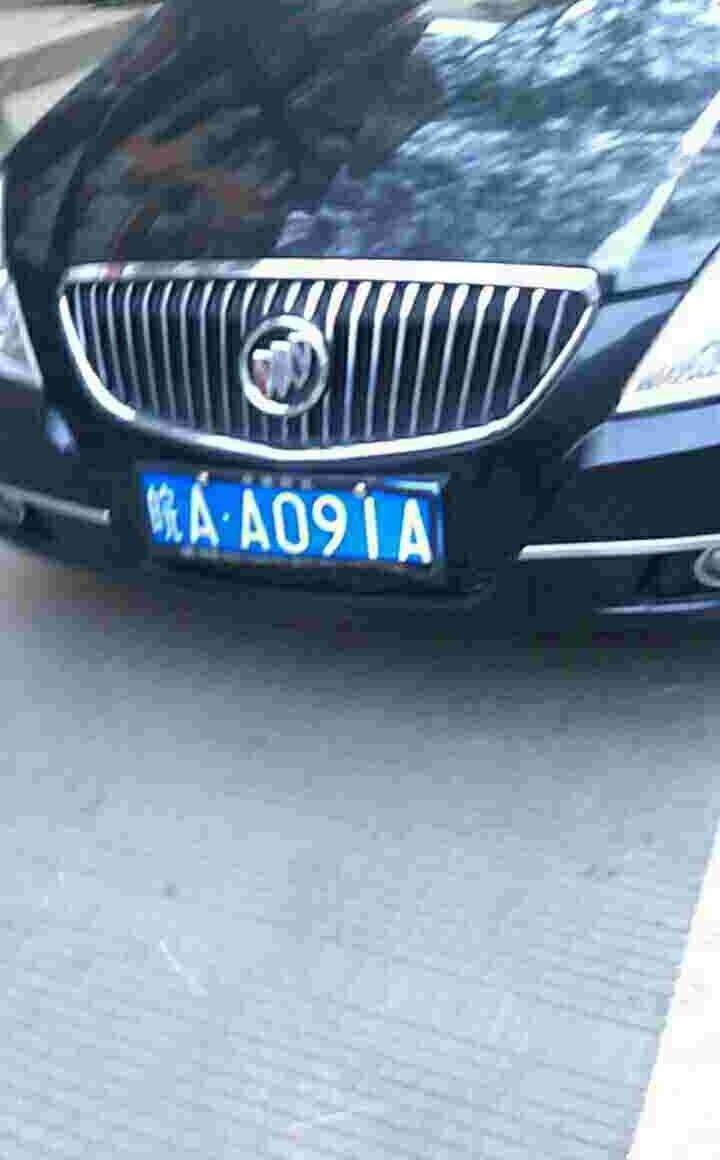license_plate: (144, 465, 438, 567)
